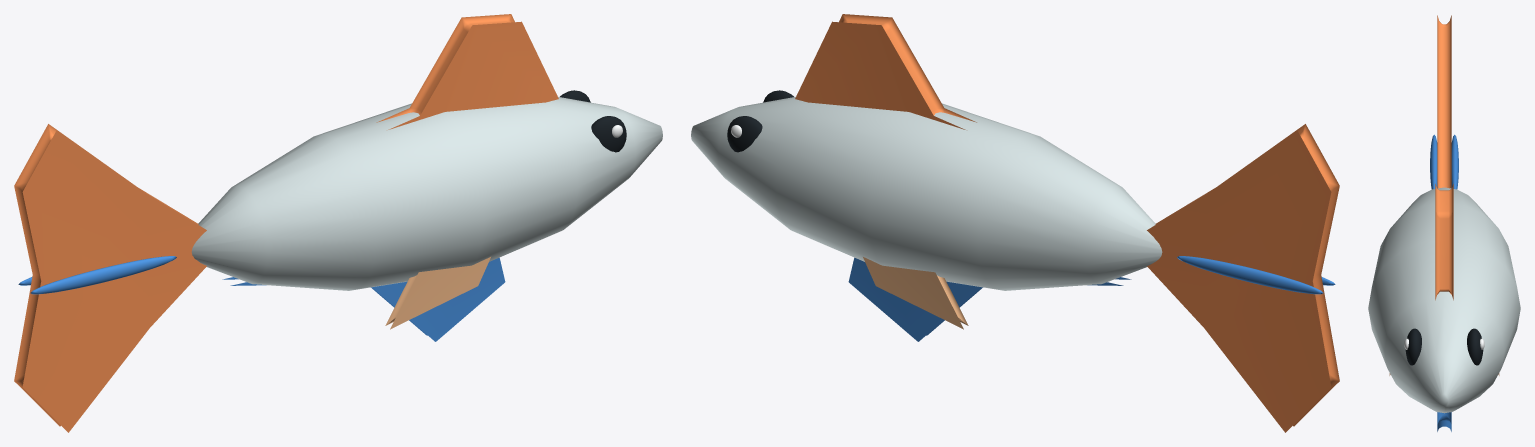
File: Guppy.fbx
3 renders of one model, left to right at view 1: azimuth 30°, elevation 25°; view 2: azimuth 150°, elevation 25°; view 3: azimuth 270°, elevation 25°, orthographic. The views are drawn at different scales.
Visible parts, largest first — view 1: Guppy shaped body, Guppy fan tail, Guppy dorsal fin, Guppy pectoral fin, Guppy anal fin, Guppy tail streak, Guppy eye; view 2: Guppy shaped body, Guppy fan tail, Guppy dorsal fin, Guppy pectoral fin.001, Guppy anal fin, Guppy tail streak.001, Guppy eye.001; view 3: Guppy shaped body, Guppy fan tail, Guppy dorsal fin, Guppy eye, Guppy eye.001, Guppy tail streak, Guppy tail streak.001, Guppy anal fin.
Boxes of the visible parts, <box> form: Guppy shaped body: <box>191,97,662,290</box>; Guppy fan tail: <box>14,124,206,432</box>; Guppy dorsal fin: <box>376,14,558,129</box>; Guppy pectoral fin: <box>385,257,490,329</box>; Guppy anal fin: <box>222,257,505,341</box>; Guppy tail streak: <box>30,256,176,294</box>; Guppy eye: <box>591,116,626,152</box>; Guppy shaped body: <box>691,97,1162,290</box>; Guppy fan tail: <box>1147,124,1339,432</box>; Guppy dorsal fin: <box>795,14,976,129</box>; Guppy pectoral fin.001: <box>863,257,968,329</box>; Guppy anal fin: <box>848,257,1131,341</box>; Guppy tail streak.001: <box>1177,256,1323,294</box>; Guppy eye.001: <box>727,116,762,152</box>; Guppy shaped body: <box>1368,187,1520,413</box>; Guppy fan tail: <box>1437,15,1451,188</box>; Guppy dorsal fin: <box>1435,184,1453,300</box>; Guppy eye: <box>1405,328,1421,365</box>; Guppy eye.001: <box>1467,328,1483,365</box>; Guppy tail streak: <box>1430,134,1437,189</box>; Guppy tail streak.001: <box>1451,134,1458,189</box>; Guppy anal fin: <box>1437,412,1451,431</box>.
Bounding box in the file's own units: 1.75 × 0.8064 × 0.42.
